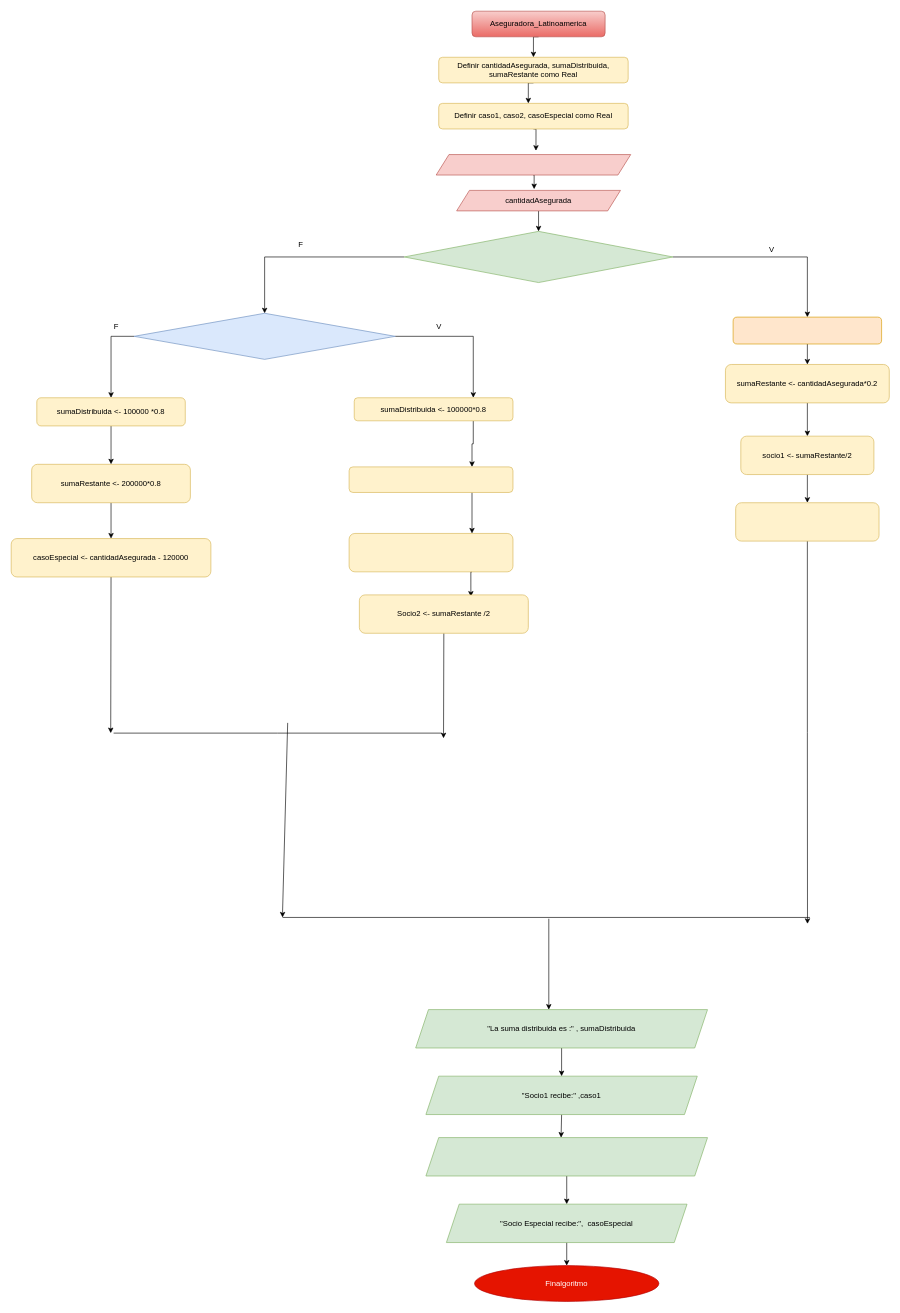
Image size: 900x1313. Some labels were removed from this diagram. The shapes that lost their labels are listed below. From the top down, each one's centre as x and y in pixels, then its label:
the point at 533,164: "Ingrese la cantidad Asegurada"
the point at 538,257: cantidaAsegurada <1000000
the point at 264,336: cantidadAsegurada>100000 si cantidadAsegurada< 120000
the point at 807,330: sumaDistribuida <- cantidadAsegurada*0.8
the point at 430,479: sumaRestante <- (cantidadAsegurada - 100000) *0.8
the point at 807,521: Socio2 <- sumaRestante/2
the point at 430,552: Socio1 <- sumaRestante /2
the point at 566,1156: "Socio2 recibe:" ,caso2
